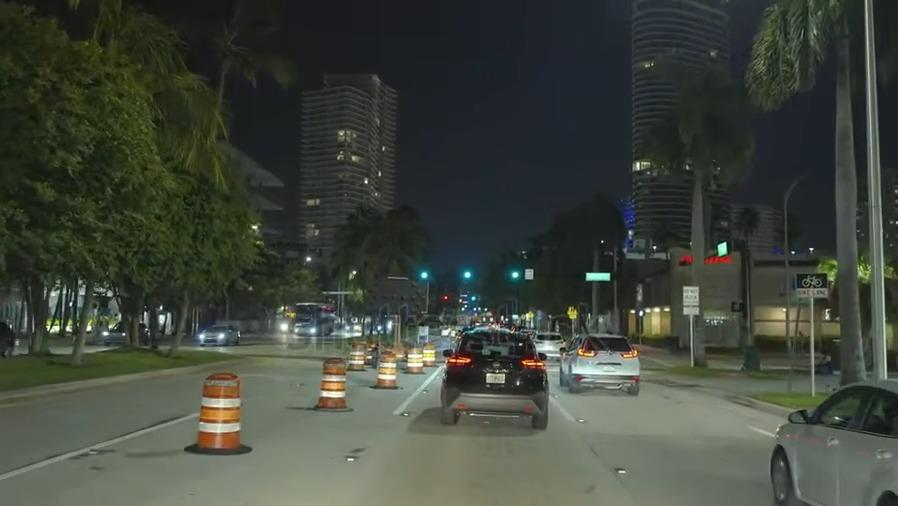bus: (294, 299, 334, 336)
car: (767, 382, 898, 502), (441, 329, 548, 425), (559, 331, 635, 393), (105, 320, 150, 347), (195, 323, 238, 347), (534, 327, 563, 355), (0, 322, 20, 355)
cone: (196, 369, 243, 448), (317, 355, 350, 410), (376, 348, 398, 387), (345, 341, 364, 371), (403, 344, 420, 374), (420, 341, 433, 366)
pedestrian: (645, 347, 719, 368)
traffic light: (503, 263, 530, 283), (457, 263, 478, 285), (416, 264, 435, 282)
wheel: (767, 446, 796, 504)
